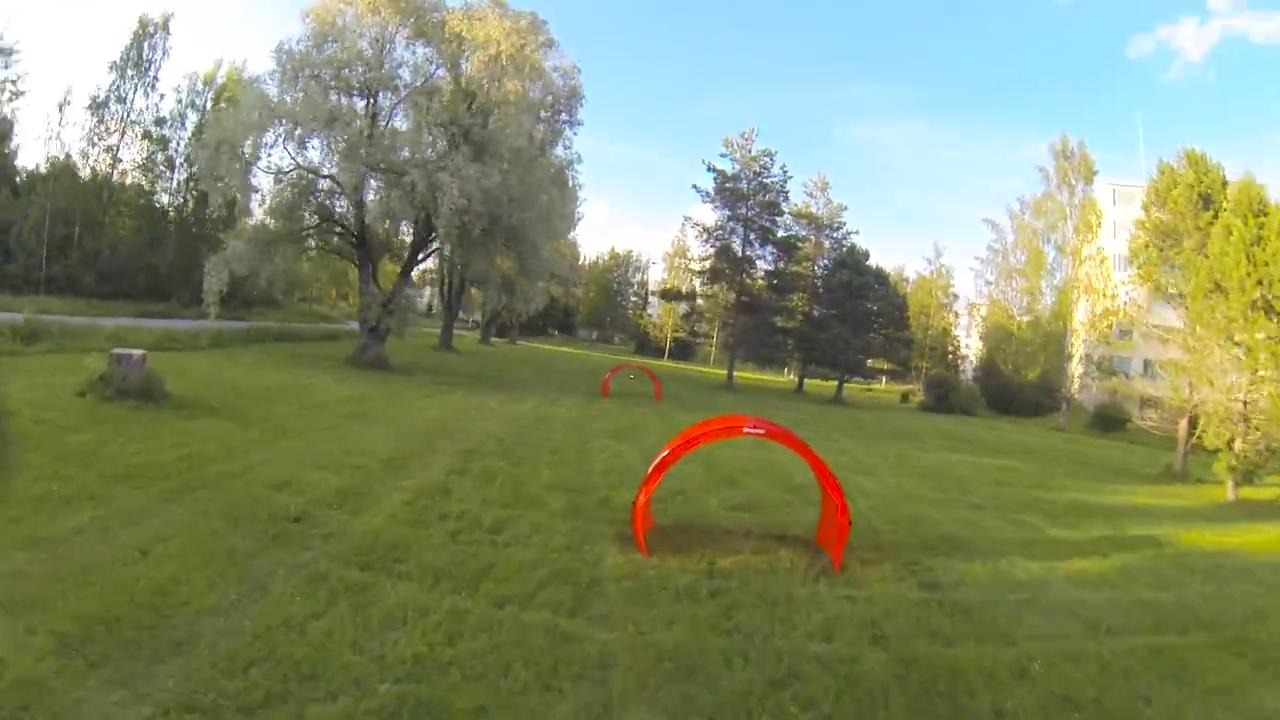gate: (628, 407, 851, 577)
